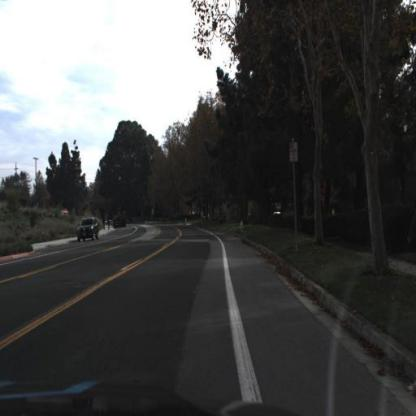car: (76, 213, 100, 246), (76, 215, 102, 244)
pedestrian: (106, 215, 113, 237)
truck: (112, 209, 130, 233)
